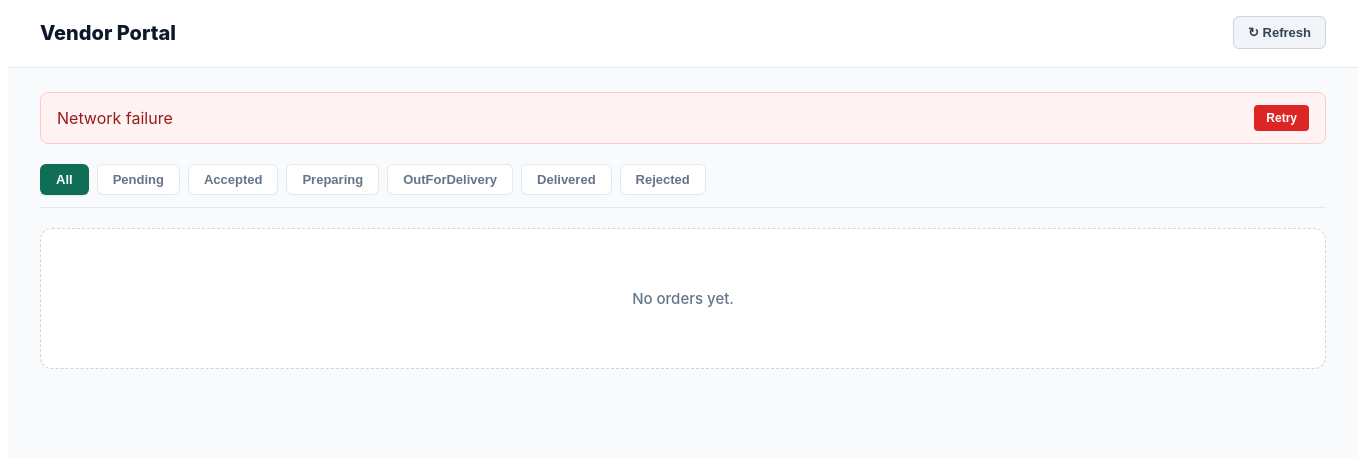
RB-403: VendorDashboard with arrival time and order fulfillment › VendorDashboard states and interactions › shows error banner and retries when retry button clicked
expect the text "Network failure" is shown: met, box [57, 108, 173, 128]
Click the button "Retry". click: (1282,118)
box: [1254, 105, 1309, 131]
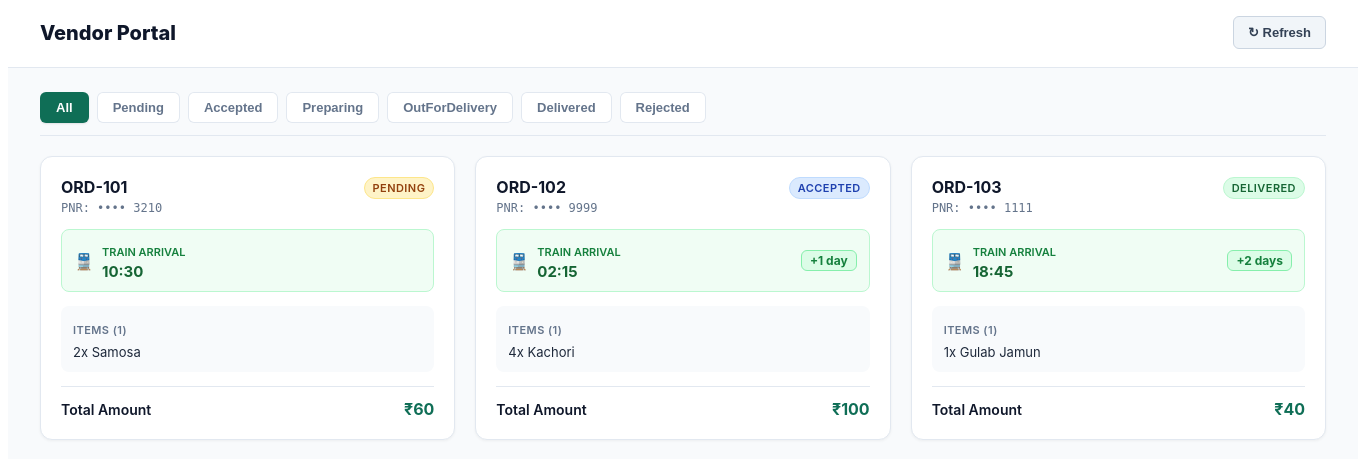
expect the heading "ORD-101" is shown: met, box [61, 177, 128, 197]
